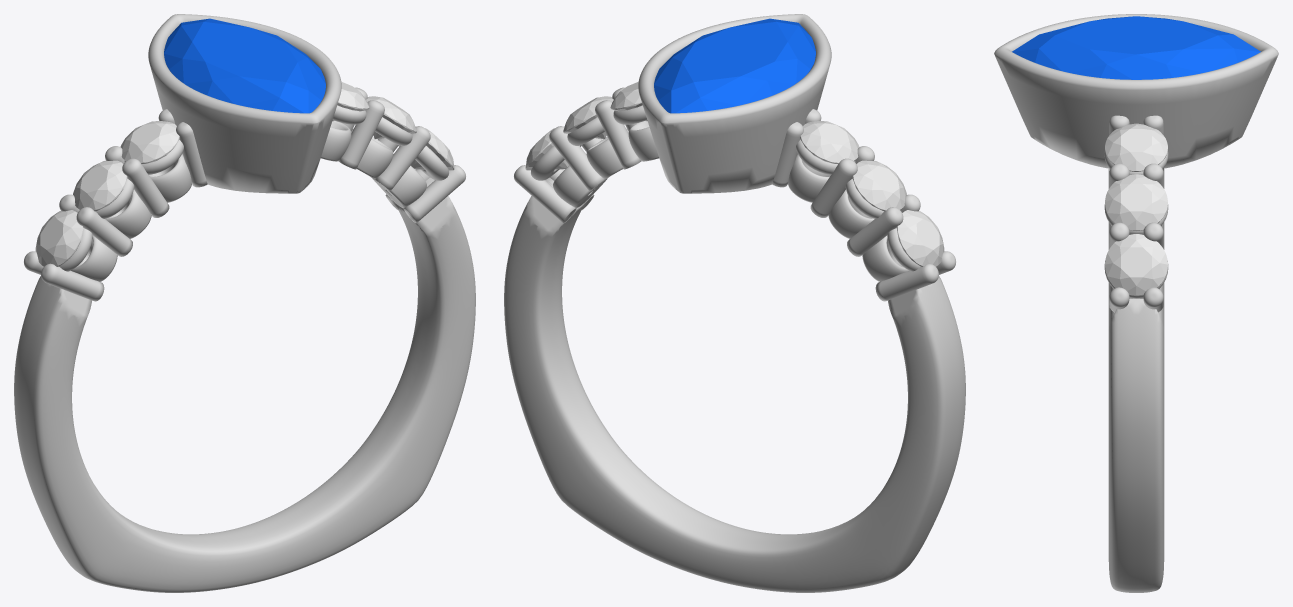
File: bluesapphire-marquise-platinum-bezelset-europeanshank-7stone.glb
The picture shows the model from 3 angles, left to right: view 1: azimuth 30°, elevation 25°; view 2: azimuth 150°, elevation 25°; view 3: azimuth 270°, elevation 25°; orthographic projection.
Visible parts, largest first — view 1: metal.002, stone.001, side.002, side.013, side.014, side.016, side.017; view 2: metal.002, stone.001, side.002, side.013, side.014, side.016, side.017; view 3: metal.002, stone.001, side.015, side.016, side.017.
Boxes of the visible parts, x1,y1,x2,y2 form: metal.002: (14,14,475,592); stone.001: (164,18,325,113); side.002: (35,210,83,266); side.013: (73,160,127,211); side.014: (120,121,179,164); side.016: (366,96,416,139); side.017: (332,81,369,121); metal.002: (504,14,965,592); stone.001: (654,18,815,113); side.002: (896,210,944,266); side.013: (852,160,906,211); side.014: (800,121,859,164); side.016: (563,96,613,139); side.017: (610,81,647,121); metal.002: (994,14,1278,592); stone.001: (1012,16,1260,79); side.015: (1105,234,1167,295); side.016: (1105,174,1167,230); side.017: (1105,123,1167,171).
Size of the model in its own units: 20.1 by 22.73 by 11.31.
